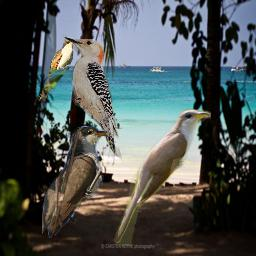Cuckoo: (112, 109, 211, 246), (42, 126, 131, 238), (37, 38, 79, 103)
Woodpecker: (63, 31, 123, 161)
